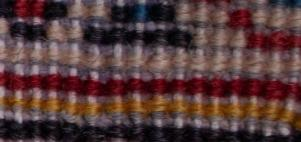Knot: (41, 5, 67, 17), (5, 129, 30, 140), (177, 83, 200, 93), (87, 5, 106, 17), (208, 36, 228, 47), (61, 102, 79, 114), (8, 76, 26, 88), (189, 36, 208, 47), (60, 80, 79, 91), (103, 102, 123, 112), (155, 10, 173, 21), (29, 27, 45, 39), (84, 31, 103, 41), (209, 13, 228, 23), (185, 105, 204, 115), (158, 83, 177, 93), (190, 13, 211, 22), (266, 17, 287, 26), (244, 119, 259, 131), (82, 105, 100, 115), (243, 106, 261, 116), (8, 25, 26, 35), (239, 133, 261, 141), (243, 63, 262, 72), (41, 101, 60, 110), (224, 106, 243, 115), (187, 61, 206, 70), (125, 102, 144, 111), (206, 62, 225, 71), (275, 124, 292, 134), (27, 52, 44, 62), (26, 120, 41, 131), (44, 30, 62, 39), (229, 17, 247, 26), (10, 97, 26, 107), (122, 31, 138, 41), (66, 29, 82, 39), (189, 116, 203, 127), (194, 1, 208, 12), (173, 3, 190, 12), (168, 102, 185, 111), (173, 13, 190, 22), (110, 13, 127, 22), (62, 56, 79, 65), (14, 7, 31, 16), (84, 57, 101, 66), (203, 133, 222, 141), (125, 69, 140, 79), (85, 44, 100, 54), (213, 47, 228, 57), (228, 38, 244, 47), (13, 62, 25, 74), (106, 57, 122, 66), (60, 124, 76, 133), (171, 60, 187, 69), (88, 17, 102, 27), (150, 102, 167, 110), (45, 49, 57, 60), (26, 65, 39, 75), (128, 91, 141, 101), (44, 121, 60, 129), (27, 98, 41, 107), (61, 114, 75, 123), (30, 17, 44, 26), (146, 4, 160, 13), (31, 88, 45, 97), (156, 22, 171, 30), (101, 44, 113, 54), (111, 115, 123, 125), (45, 40, 57, 50), (154, 44, 166, 54), (194, 25, 206, 35), (172, 38, 189, 45), (84, 116, 97, 125), (44, 111, 57, 120), (110, 70, 123, 79), (172, 116, 185, 125), (261, 124, 274, 133), (172, 70, 185, 79), (4, 53, 17, 62), (190, 47, 203, 56), (8, 121, 22, 129), (45, 134, 61, 141), (229, 119, 240, 129), (65, 92, 76, 102), (58, 40, 69, 50), (151, 116, 163, 125), (98, 116, 110, 125), (175, 22, 187, 31), (57, 66, 69, 75), (29, 110, 41, 119), (209, 119, 221, 128), (203, 71, 215, 80), (181, 93, 193, 102), (288, 74, 300, 83), (32, 39, 44, 48), (287, 18, 300, 26), (47, 18, 60, 26), (78, 69, 88, 79), (69, 18, 80, 27), (151, 71, 163, 79), (173, 47, 186, 54), (132, 115, 142, 124), (3, 110, 13, 119), (88, 70, 98, 79), (47, 65, 57, 74), (153, 93, 163, 102), (141, 92, 151, 101), (229, 96, 239, 105), (133, 22, 144, 30), (113, 7, 127, 13), (13, 111, 22, 120), (13, 88, 22, 97), (221, 71, 230, 80), (172, 93, 181, 102), (145, 22, 155, 30), (87, 94, 97, 102), (141, 71, 151, 79), (193, 71, 203, 79), (113, 22, 123, 30), (101, 21, 111, 29), (230, 71, 240, 79), (290, 27, 300, 35), (124, 22, 133, 30), (97, 94, 106, 102), (292, 124, 300, 133), (107, 137, 125, 141), (290, 134, 300, 141), (274, 136, 287, 141), (261, 136, 274, 141), (30, 137, 45, 141)
